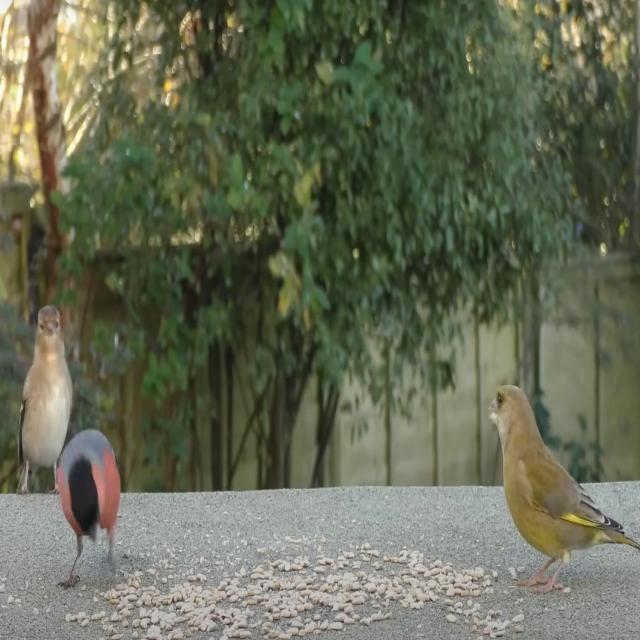beak: (484, 399, 501, 430), (87, 528, 100, 548), (44, 326, 57, 342)
bird: (486, 371, 640, 602), (15, 301, 73, 500), (56, 428, 120, 600)
